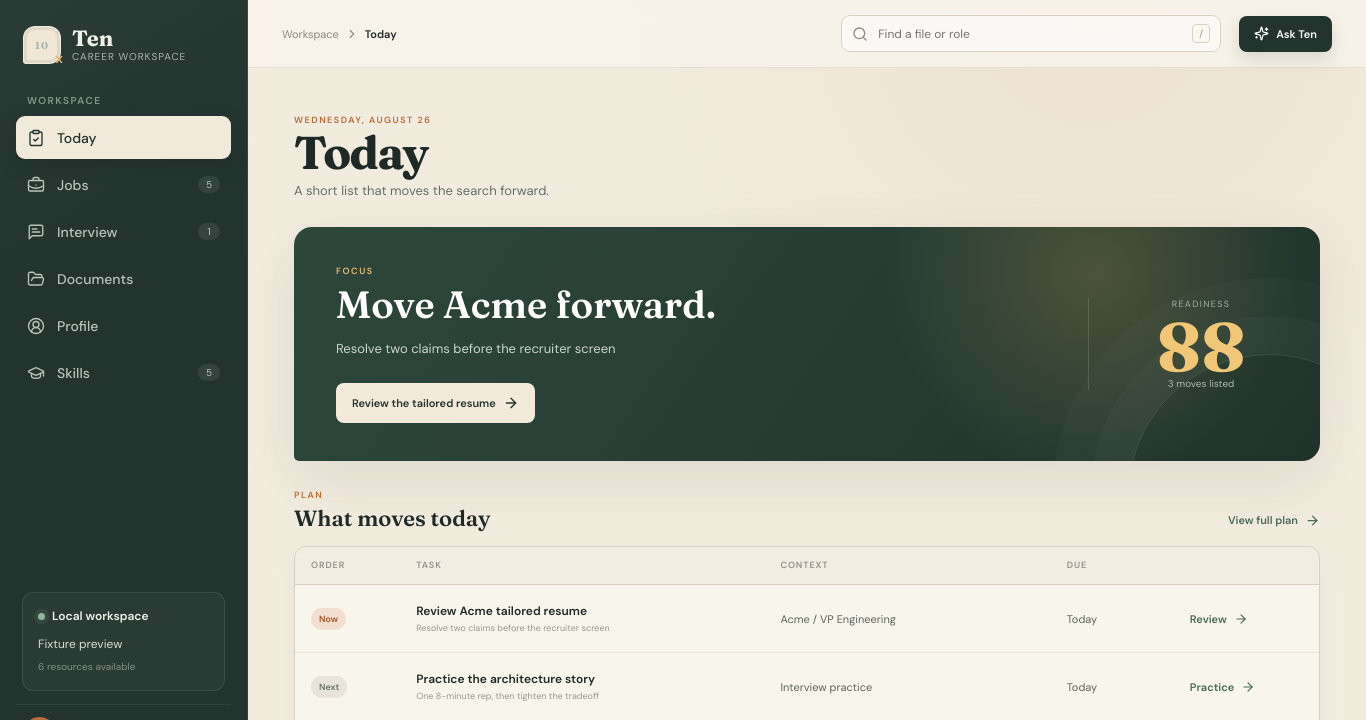
Test: workspace preview › searches across files and roles
Type "Acme" into the field named "Find a file or role". click: point(1030, 34)
box: [876, 24, 1184, 42]
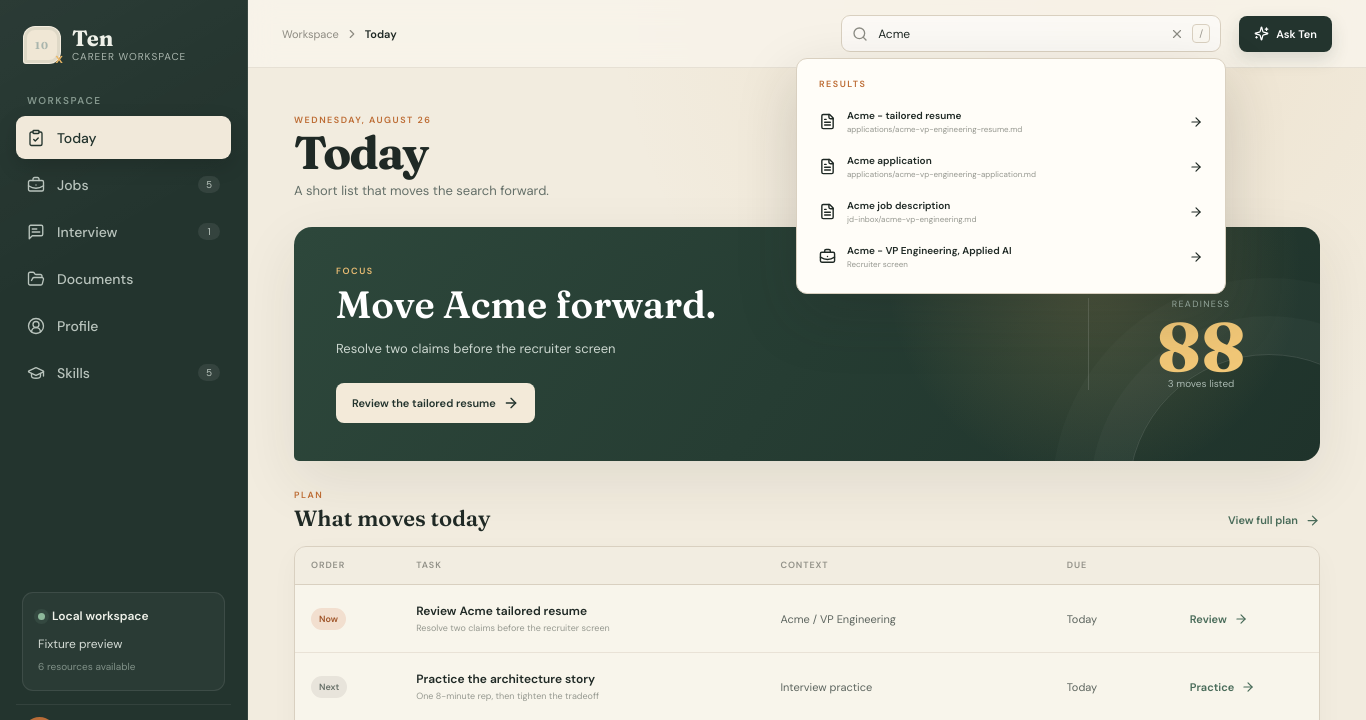
Result: the text "Acme - tailored resume" is shown at [847, 109, 962, 122]
Result: the text "Acme - VP Engineering, Applied AI" is shown at [847, 244, 1012, 257]
